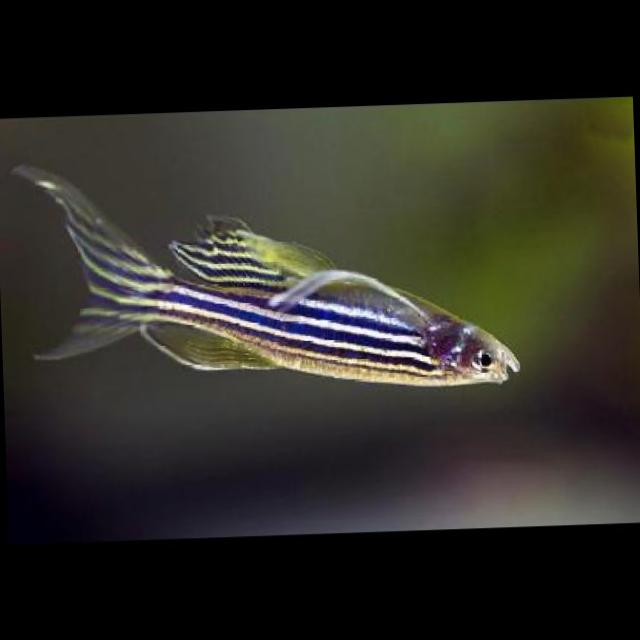ZebraFish: (155, 212, 518, 398)
